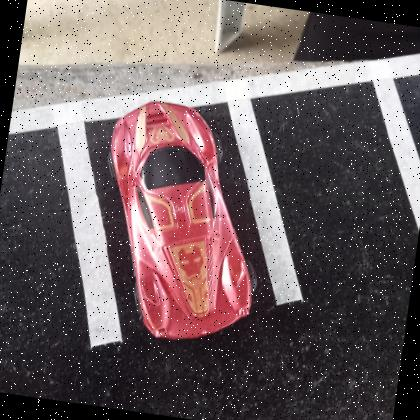Car: (110, 102, 253, 342)
